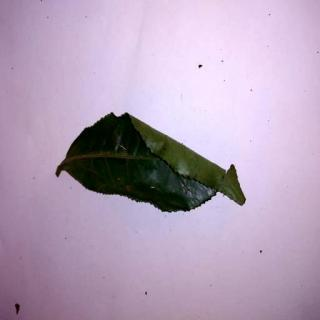Anthracnose: (57, 110, 247, 215)
